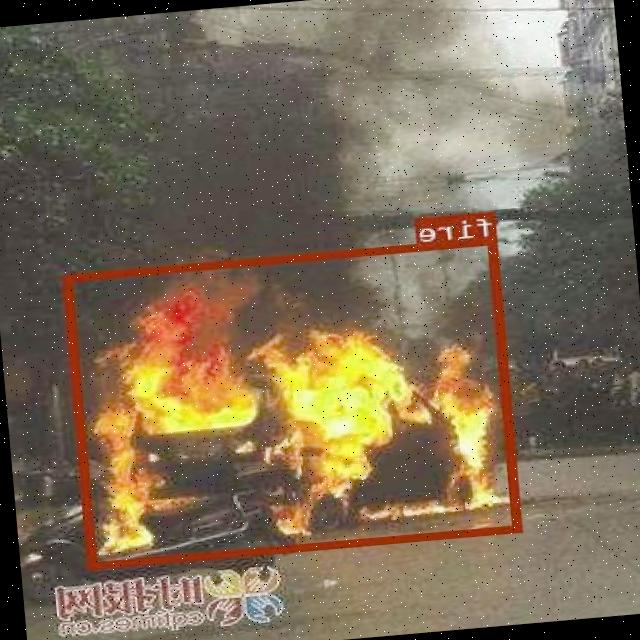fire: (63, 235, 524, 568)
